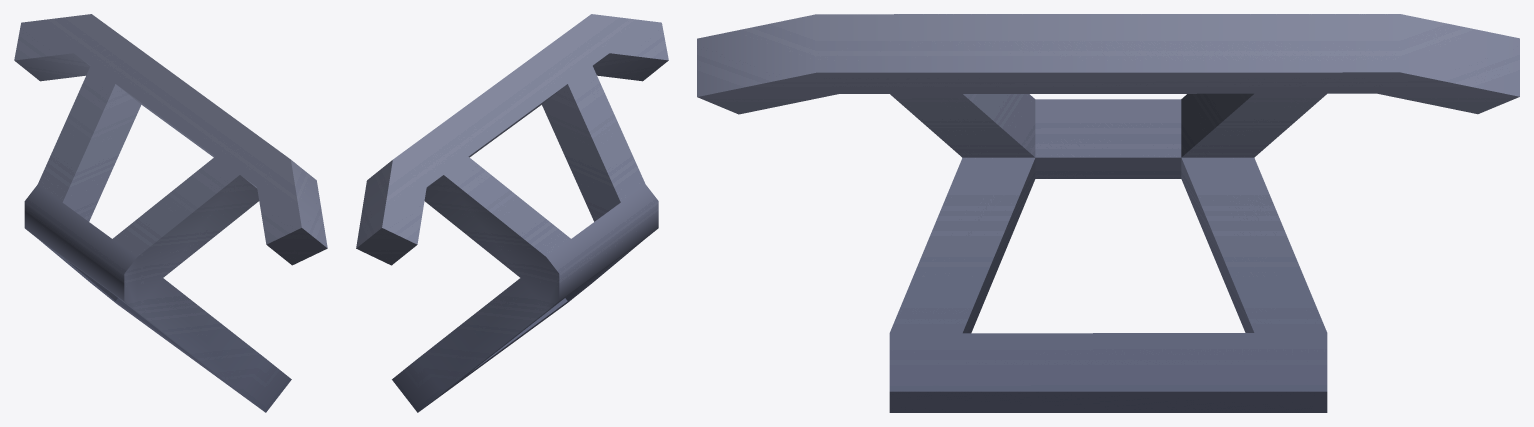
The model's file is collector_lev2.glb.
3 renders of one model, left to right at view 1: azimuth 30°, elevation 25°; view 2: azimuth 150°, elevation 25°; view 3: azimuth 270°, elevation 25°, orthographic. The views are drawn at different scales.
Visible parts, largest first — view 1: collector_lev2; view 2: collector_lev2; view 3: collector_lev2.
Boxes of the visible parts, x1,y1,x2,y2 form: collector_lev2: (14, 14, 327, 412); collector_lev2: (356, 14, 668, 412); collector_lev2: (697, 14, 1519, 412).
Bounding box in the file's own units: 0.6958 × 1.26 × 2.36.
1 material, 1 textured.
